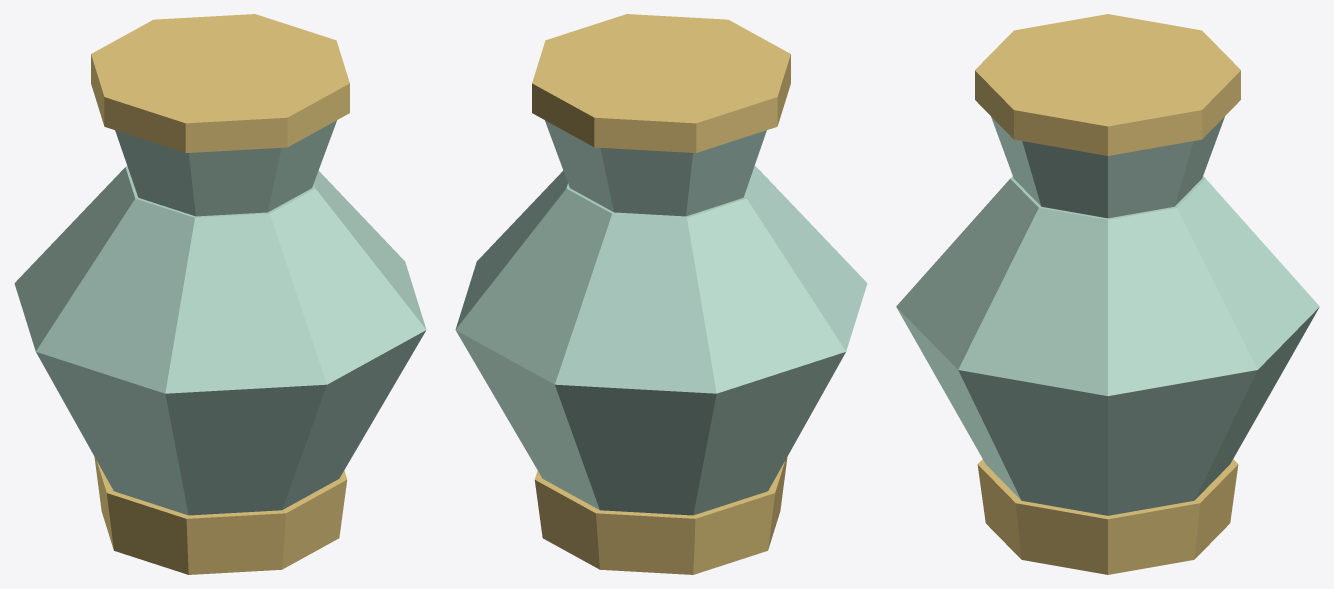
Rendered from LP_Item_V01.fbx.
The picture shows the model from 3 angles, left to right: view 1: azimuth 30°, elevation 25°; view 2: azimuth 150°, elevation 25°; view 3: azimuth 270°, elevation 25°; orthographic projection.
Parts seen in each view (by area): view 1: ArtifactMesh; view 2: ArtifactMesh; view 3: ArtifactMesh.
Part boxes in pixels (bbox=[...]): ArtifactMesh: bbox=[14, 14, 426, 574]; ArtifactMesh: bbox=[455, 14, 867, 574]; ArtifactMesh: bbox=[896, 14, 1319, 574].
Size of the model in its own units: 0.156 by 0.184 by 0.156.
